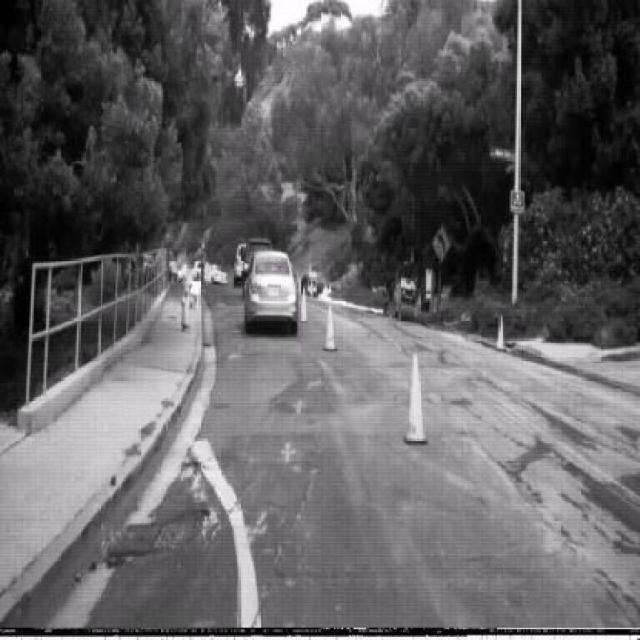curveLeft: (432, 225, 451, 262)
